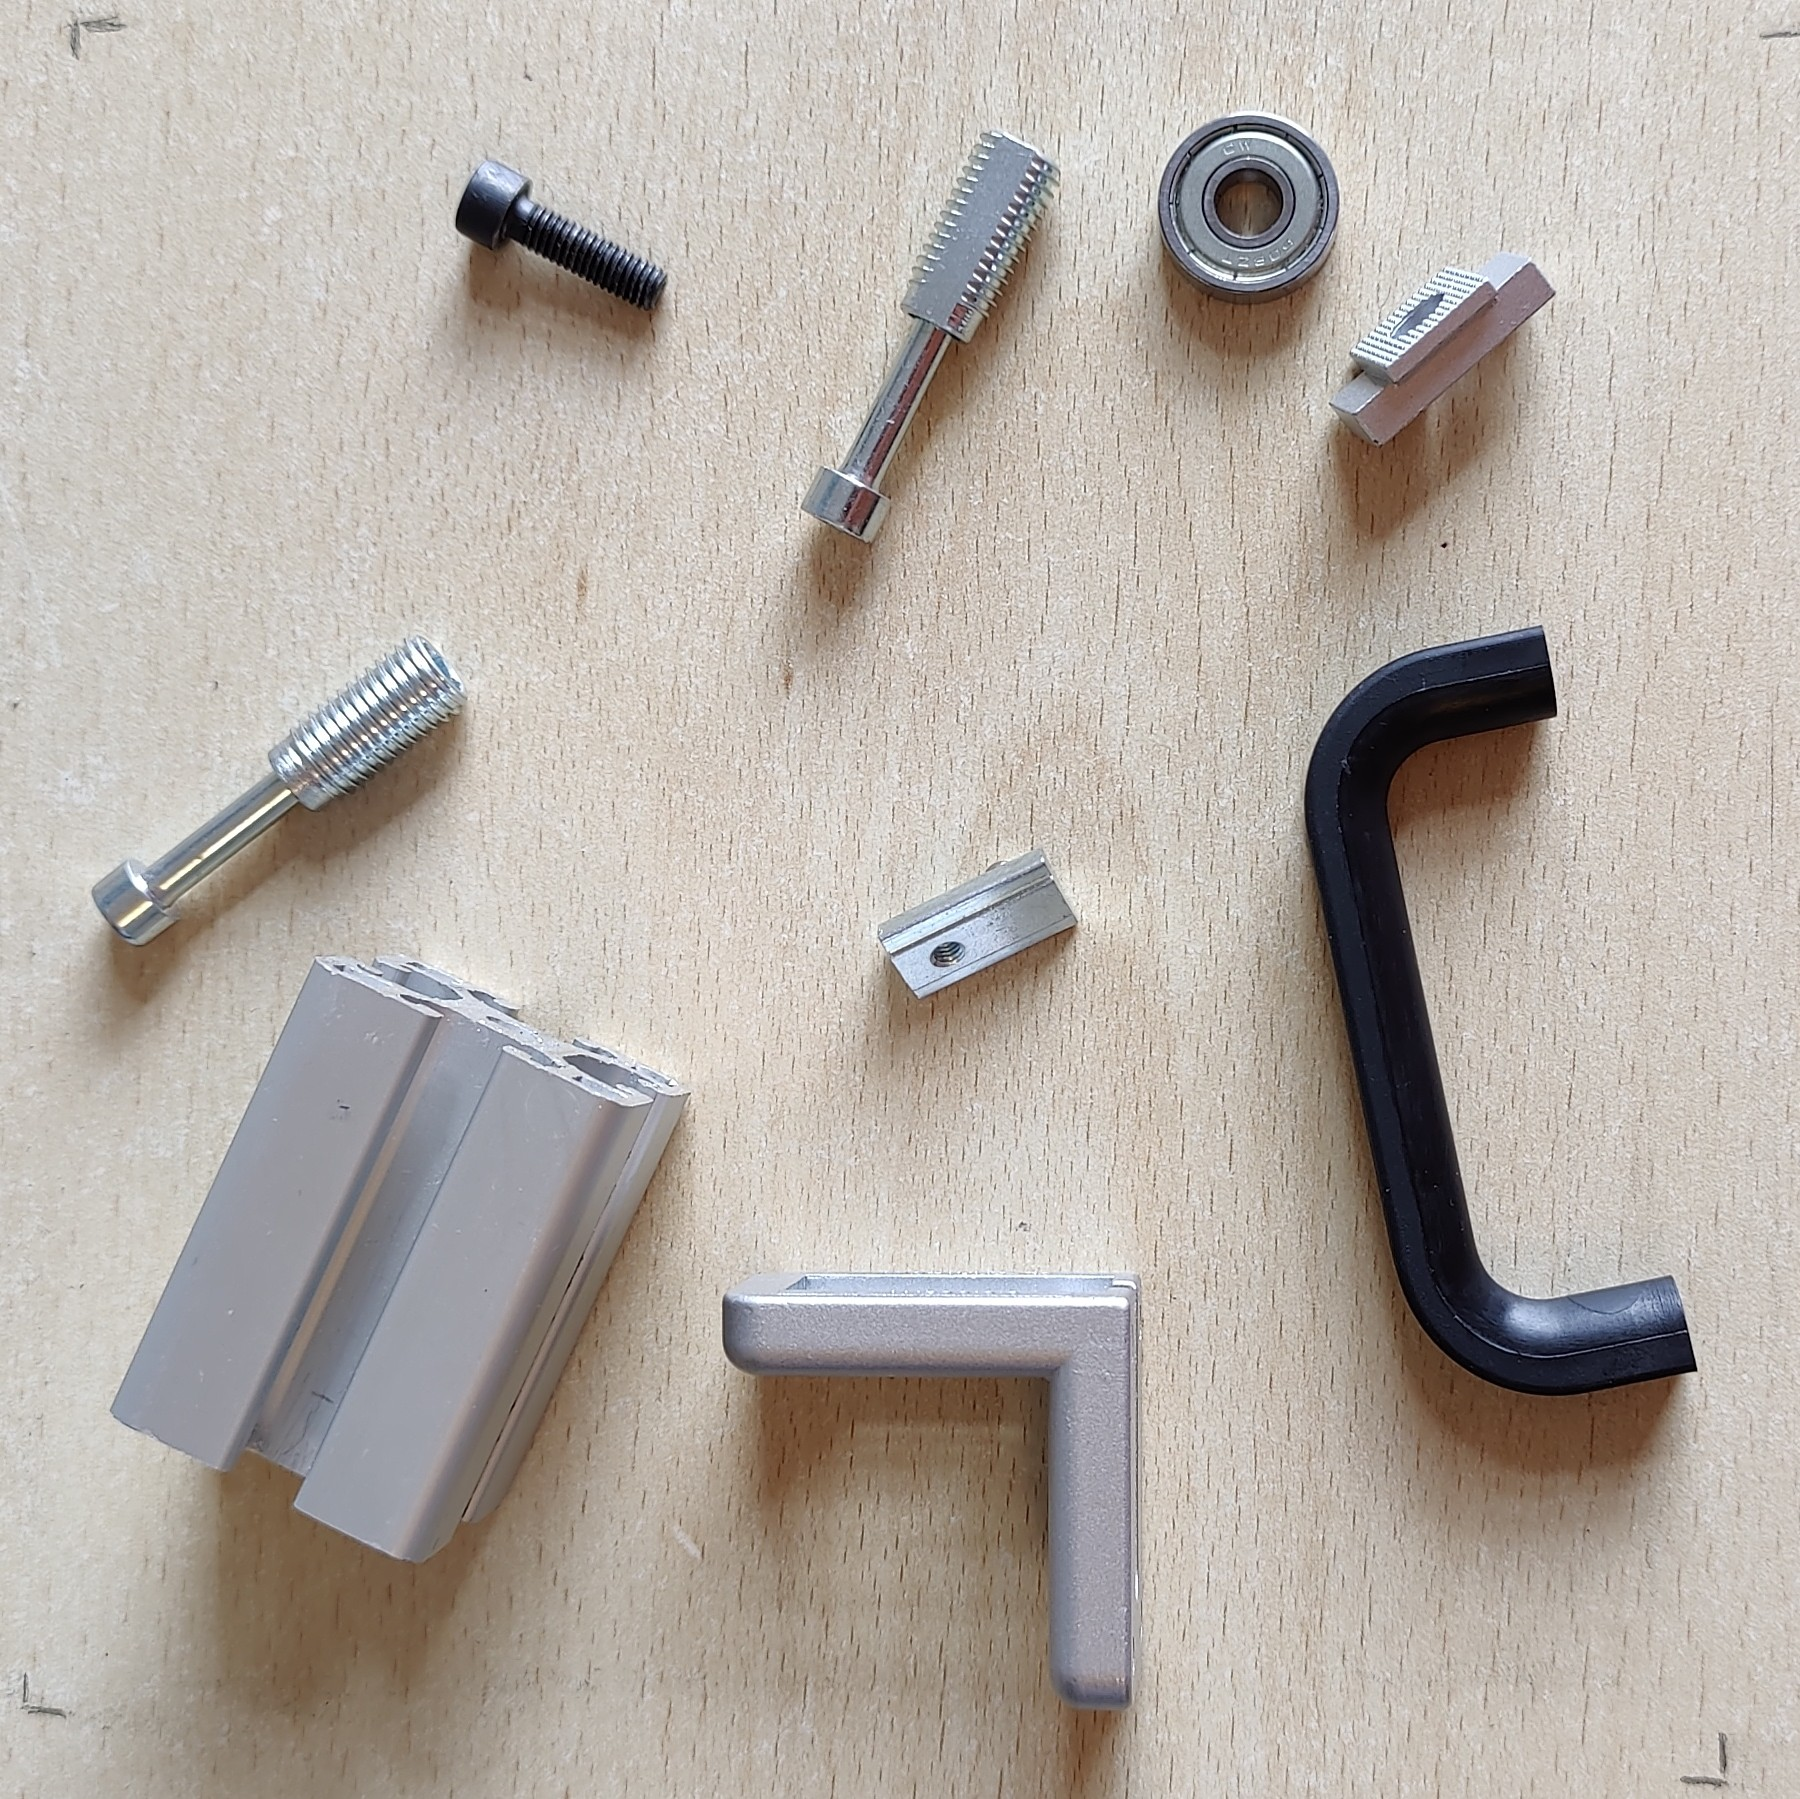Aluminium Extension: (105, 952, 692, 1567)
Ball Bearing: (1153, 110, 1342, 306)
Multiwinkel: (716, 1264, 1146, 1713)
Pull Handle: (1299, 624, 1698, 1399)
Shoulder Socket Head Cap Screw: (91, 631, 473, 947), (797, 125, 1062, 549)
Socket Head Cap Screw: (451, 157, 670, 313)
T Nut Square: (1327, 254, 1555, 450)
T Spring Nut: (874, 843, 1080, 1003)
